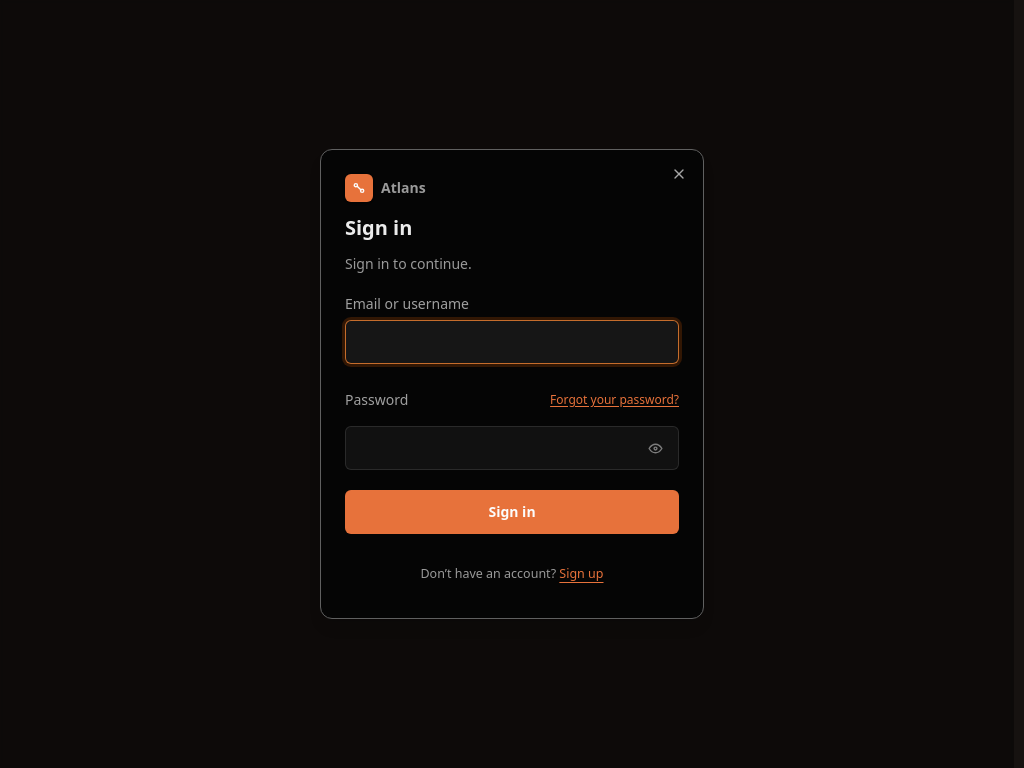
Scenario: entrada em en › entrar: título, apoio, rótulos, botões e rodapé — sem português
This screenshot has width=1024, height=768.
Check: the dialog "Sign in" shows "Sign in to continue.", box [345,254,472,273]
Check: the field labelled "Email or username" is shown, box [345,320,679,364]
Click the button "Sign up": click(581, 574) [559,554,604,594]
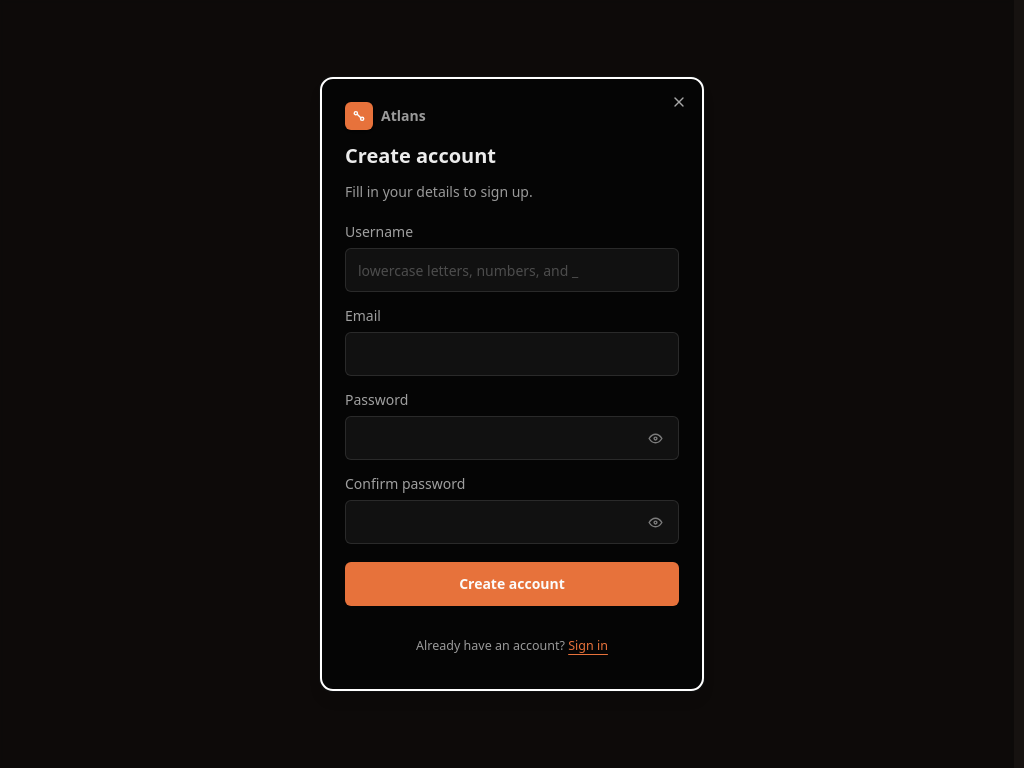
Check: the dialog "Create account" is shown, box [320,77,704,691]
